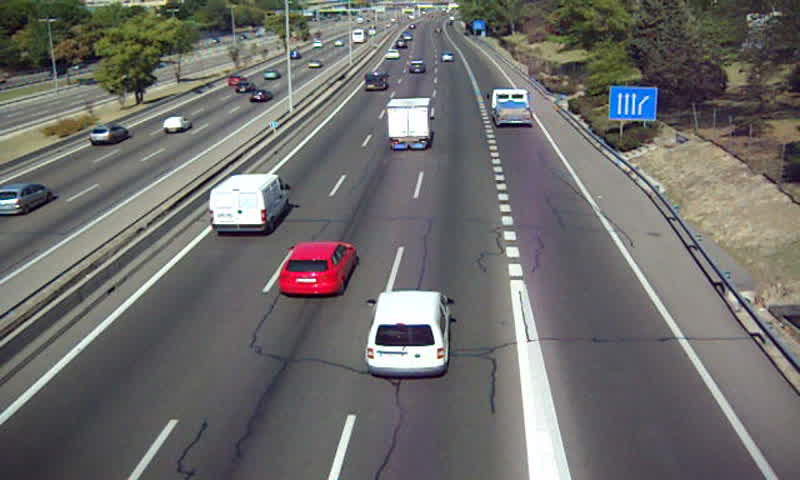car: (366, 289, 450, 375), (276, 240, 356, 296), (407, 60, 426, 76), (384, 47, 400, 60), (440, 52, 456, 64)
small-truck: (386, 96, 433, 149), (490, 88, 533, 126)
van: (208, 174, 290, 235), (362, 71, 388, 94)
